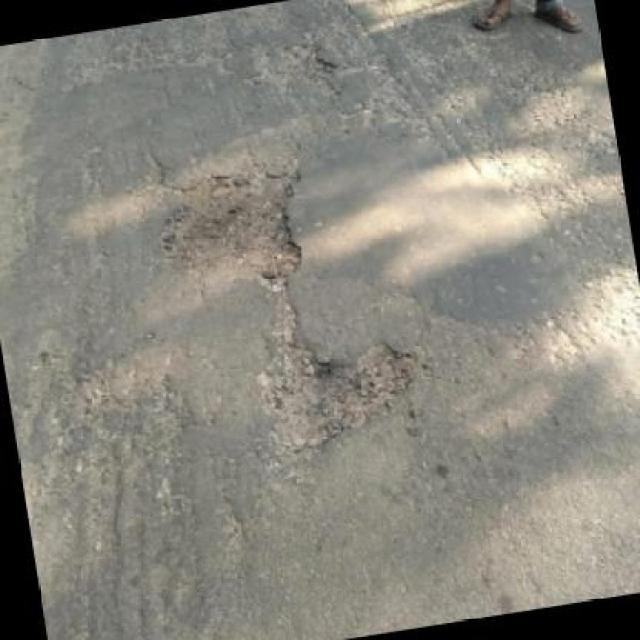pothole: (253, 325, 418, 470), (144, 158, 310, 302)
